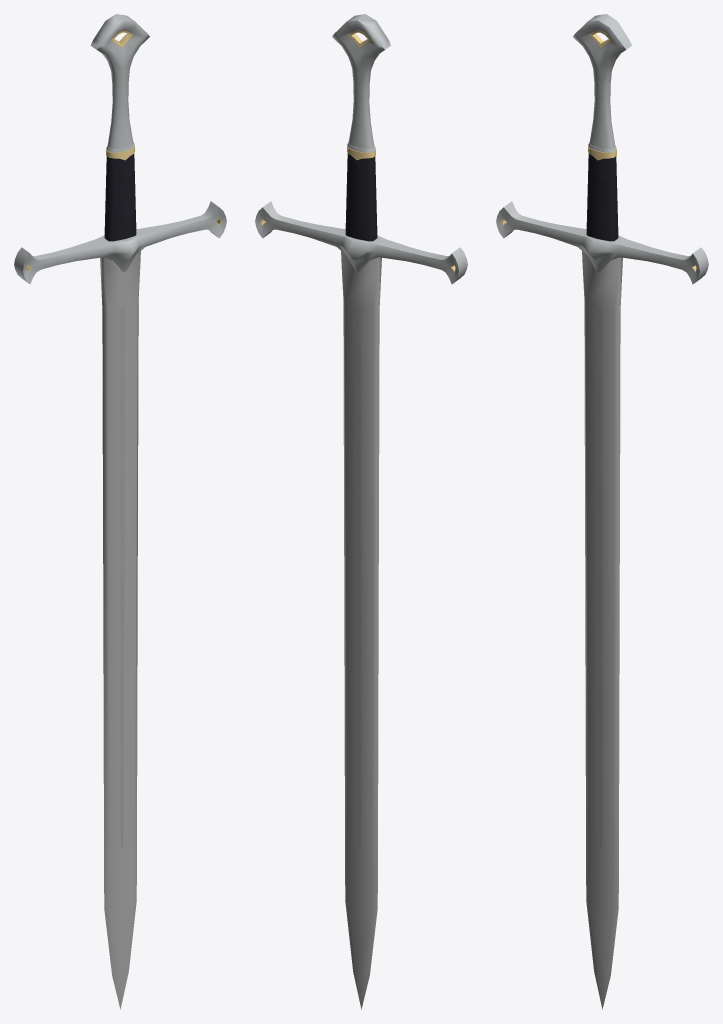
File: sword.glb
The picture shows the model from 3 angles, left to right: view 1: azimuth 30°, elevation 25°; view 2: azimuth 150°, elevation 25°; view 3: azimuth 330°, elevation 25°; orthographic projection.
Visible parts, largest first — view 1: Blade_low001; view 2: Blade_low001; view 3: Blade_low001.
Part boxes in pixels (x1=…): Blade_low001: x1=14, y1=14, x2=226, y2=1009; Blade_low001: x1=255, y1=14, x2=467, y2=1009; Blade_low001: x1=496, y1=14, x2=708, y2=1009.
Bounding box in the file's own units: 0.4299 × 2 × 0.0992.
1 material, 1 textured.
